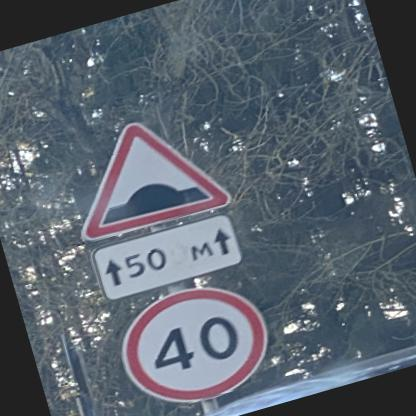speedlimit: (106, 270, 281, 415)
